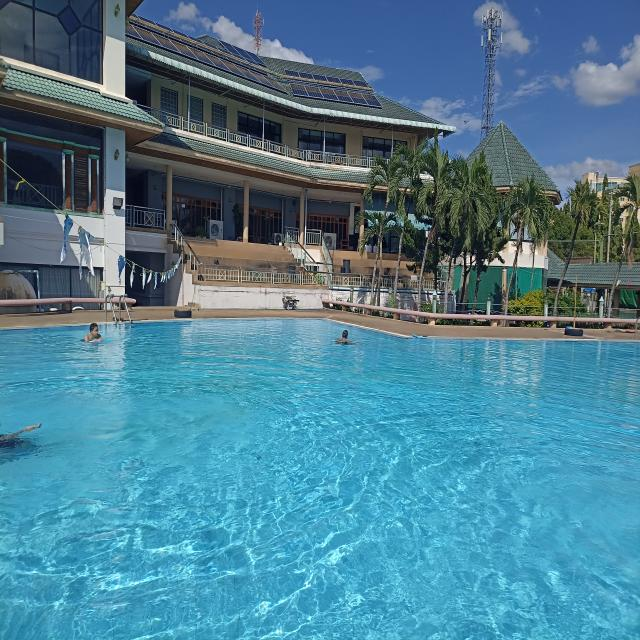Swimming: (0, 417, 49, 462), (331, 320, 359, 348), (83, 322, 106, 350)
